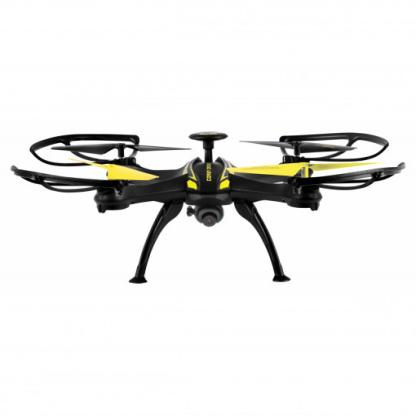drone: (16, 122, 412, 242)
